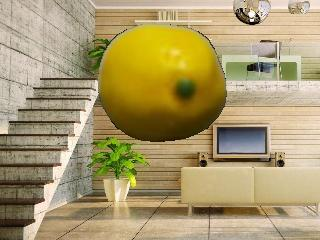lemon: (98, 23, 228, 142)
